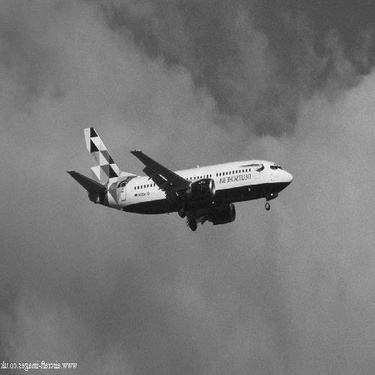airplane: (55, 110, 303, 238)
